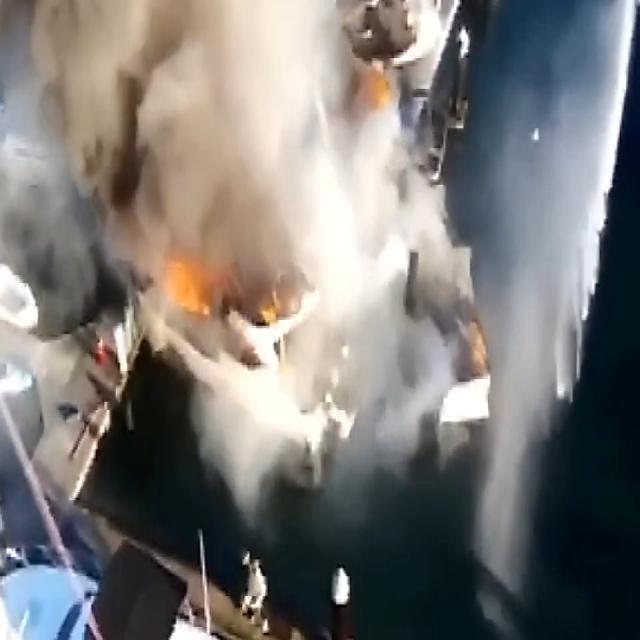smoke: (0, 0, 481, 461)
